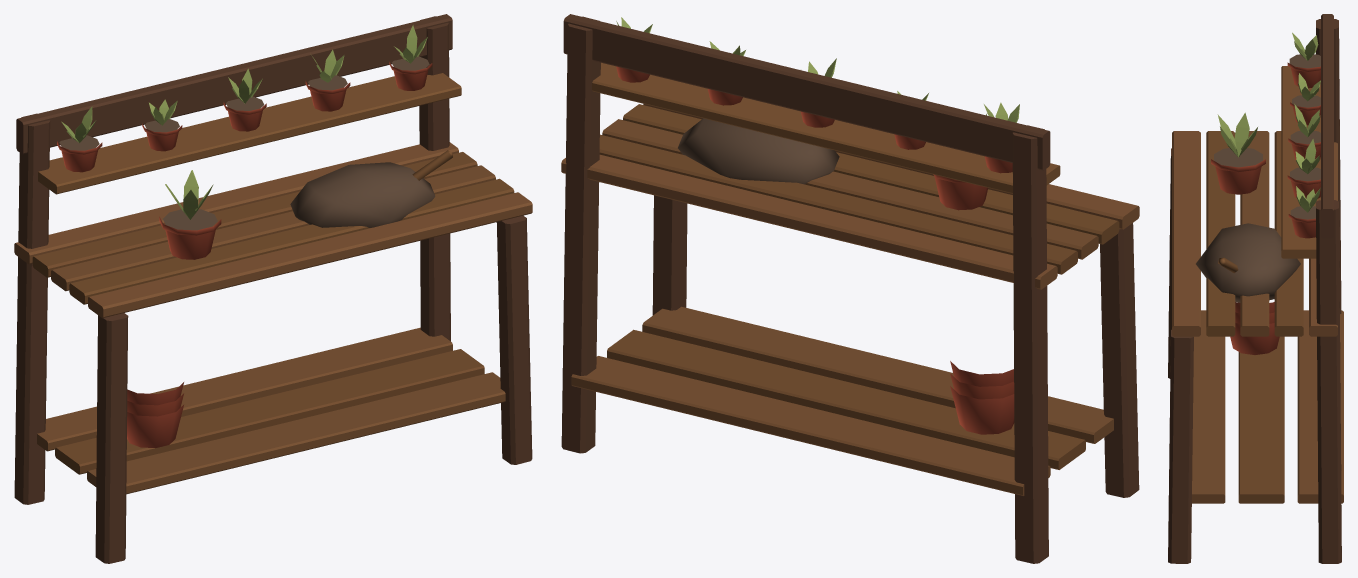
File: prop_potting_bench_a.glb
The picture shows the model from 3 angles, left to right: view 1: azimuth 30°, elevation 25°; view 2: azimuth 150°, elevation 25°; view 3: azimuth 270°, elevation 25°; orthographic projection. The views are drawn at different scales.
Visible parts, largest first — view 1: prop_potting_bench_a_mesh; view 2: prop_potting_bench_a_mesh; view 3: prop_potting_bench_a_mesh.
Part boxes in pixels (box(x1,y1,x2,y2)): prop_potting_bench_a_mesh: box(14, 14, 532, 563); prop_potting_bench_a_mesh: box(561, 14, 1139, 563); prop_potting_bench_a_mesh: box(1168, 14, 1343, 563).
Bounding box in the file's own units: 1.4 × 1.21 × 0.5338.
